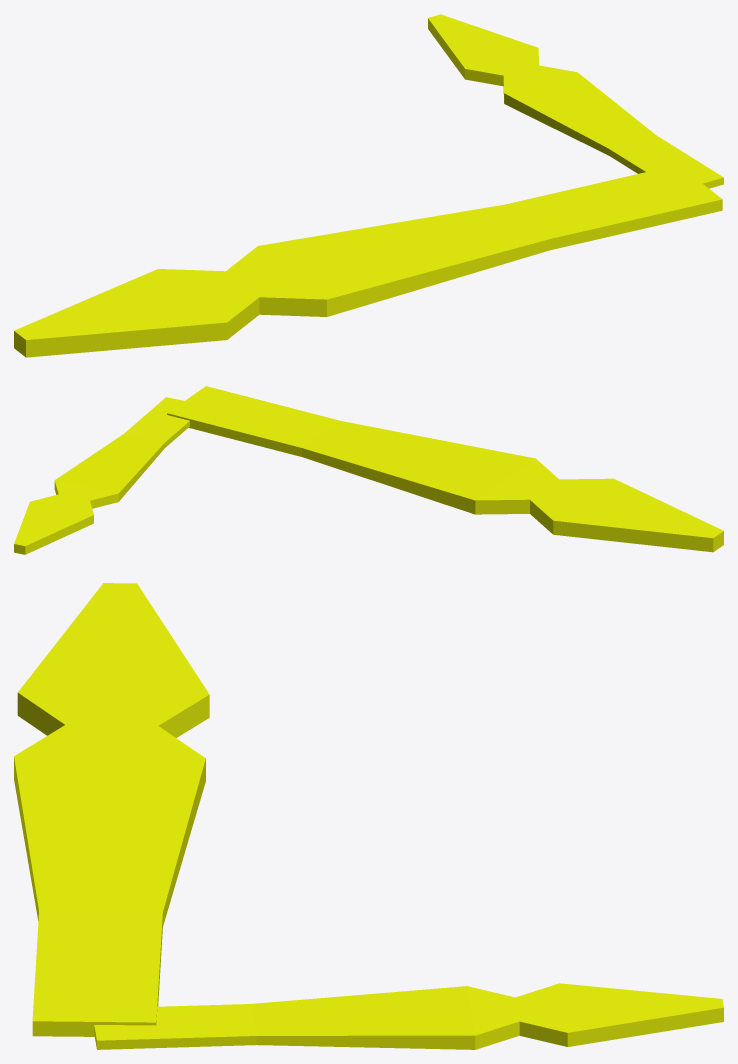
3 views of the same model, one above another, from view 1: azimuth 30°, elevation 25°; view 2: azimuth 150°, elevation 25°; view 3: azimuth 270°, elevation 25° (orthographic). The views are drawn at different scales.
Parts seen in each view (by area): view 1: Cube.001, Cube; view 2: Cube.001, Cube; view 3: Cube.001, Cube.
Boxes of the visible parts, bbox=[...] form: Cube.001: bbox=[14, 165, 722, 357]; Cube: bbox=[428, 14, 723, 188]; Cube.001: bbox=[167, 386, 723, 552]; Cube: bbox=[14, 397, 189, 554]; Cube.001: bbox=[14, 583, 209, 1036]; Cube: bbox=[94, 983, 723, 1049].
Size of the model in its own units: 77.01 by 1.85 by 51.28.
